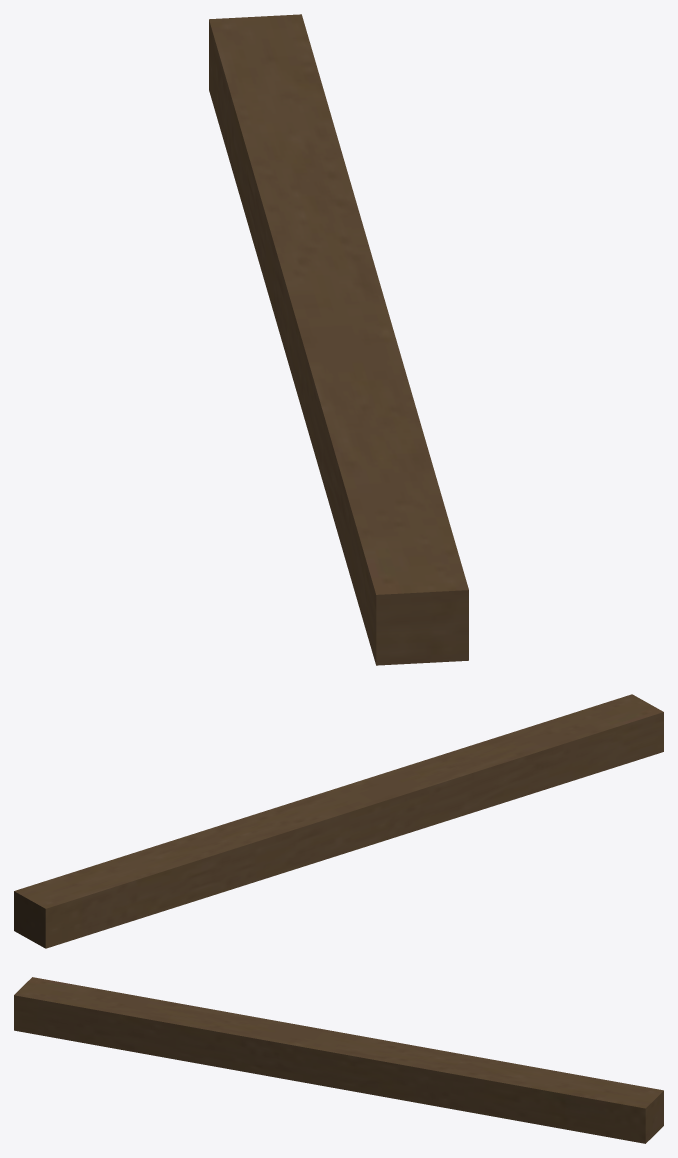
The model's file is support_ladder__side_rail_1.glb.
3 renders of one model, top to bottom at view 1: azimuth 30°, elevation 25°; view 2: azimuth 150°, elevation 25°; view 3: azimuth 270°, elevation 25°, orthographic. The views are drawn at different scales.
Parts seen in each view (by area): view 1: geometry_0; view 2: geometry_0; view 3: geometry_0.
Part boxes in pixels (box(x1,y1,x2,y2)): geometry_0: box(209, 14, 468, 665); geometry_0: box(14, 694, 663, 948); geometry_0: box(14, 977, 663, 1143).
Size of the model in its own units: 0.1995 by 0.025 by 0.4167.
1 material, 1 textured.
